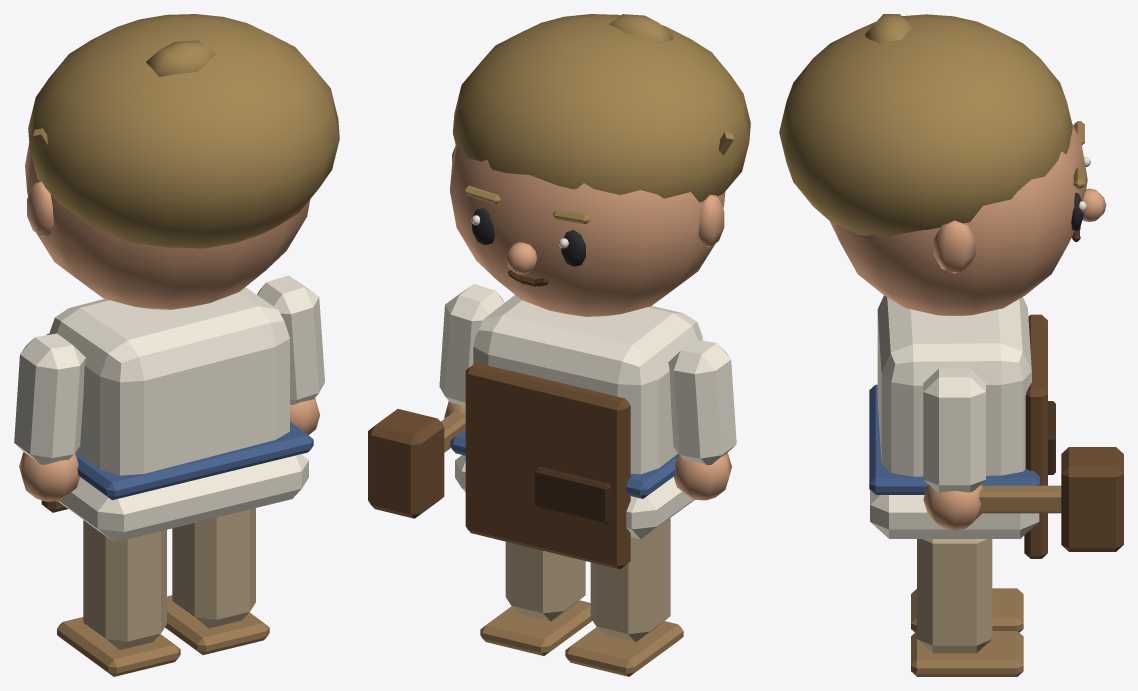
File: builder.fbx
3 renders of one model, left to right at view 1: azimuth 30°, elevation 25°; view 2: azimuth 150°, elevation 25°; view 3: azimuth 270°, elevation 25°, orthographic. The views are drawn at different scales.
Visible parts, largest first — view 1: Head, Body, LegL, LegR, ArmL, ArmR; view 2: Head, Body, LegL, ArmL, LegR, Hammer, ArmR; view 3: Head, Body, LegR, ArmR, Hammer, LegL.
Boxes of the visible parts, box(x1,y1,x2,y2) form: Head: box(25, 14, 339, 309); Body: box(41, 287, 313, 542); LegL: box(57, 520, 180, 676); LegR: box(165, 508, 269, 654); ArmL: box(14, 333, 85, 501); ArmR: box(257, 275, 324, 435); Head: box(450, 14, 750, 316); Body: box(450, 295, 702, 569); LegL: box(565, 518, 683, 676); ArmL: box(668, 339, 736, 500); LegR: box(480, 541, 592, 655); Hammer: box(368, 409, 465, 518); ArmR: box(439, 284, 504, 418); Head: box(779, 14, 1106, 315); Body: box(869, 295, 1055, 558); LegR: box(911, 539, 1023, 676); ArmR: box(923, 368, 985, 530); Hammer: box(979, 447, 1123, 551); LegL: box(911, 588, 1023, 632).
Bounding box in the file's own units: 0.4242 × 0.4402 × 0.8646.
